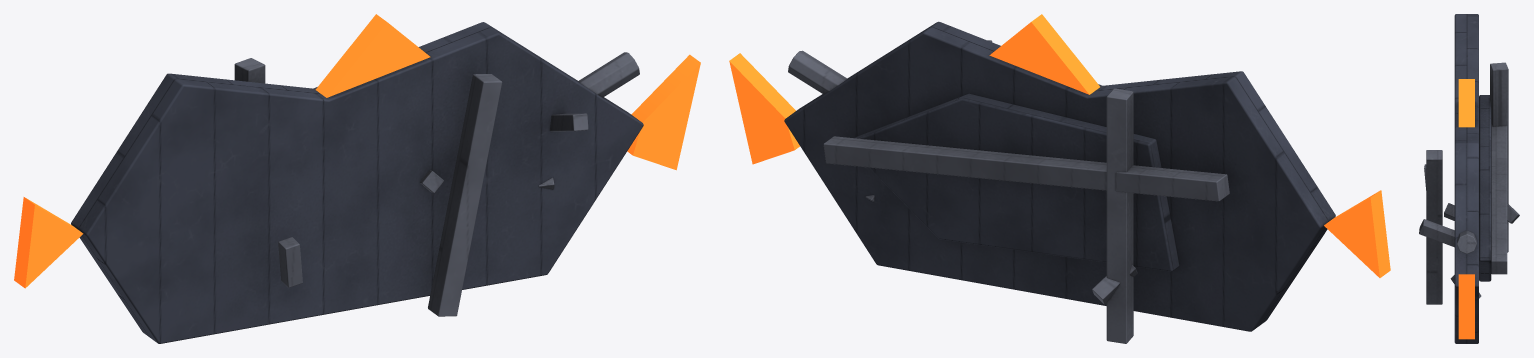
Rendered from debris_hull.glb.
3 views of the same model, side by side, from view 1: azimuth 30°, elevation 25°; view 2: azimuth 150°, elevation 25°; view 3: azimuth 270°, elevation 25° (orthographic). The views are drawn at different scales.
Parts seen in each view (by area): view 1: Plating, TornEdge, Girders; view 2: Plating, Girders, TornEdge; view 3: Plating, Girders, TornEdge.
Part boxes in pixels (x1,y1,x2,y2): Plating: [71, 22, 643, 343]; TornEdge: [14, 14, 700, 288]; Girders: [234, 52, 639, 316]; Plating: [784, 21, 1335, 331]; Girders: [788, 40, 1229, 343]; TornEdge: [729, 14, 1390, 277]; Plating: [1454, 14, 1491, 343]; Girders: [1419, 62, 1519, 304]; TornEdge: [1458, 79, 1474, 339].
Bounding box in the file's own units: 27.8 × 11.4 × 4.97.
3 materials, 2 textured.
